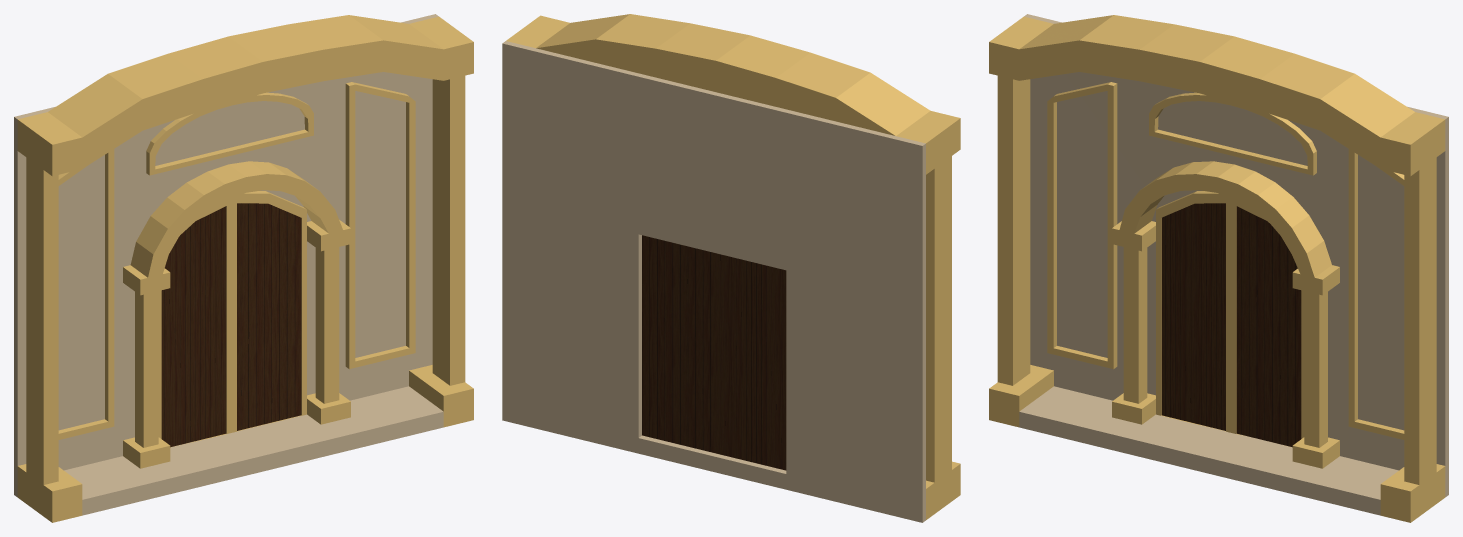
Rendered from Door with details.fbx.
3 views of the same model, side by side, from view 1: azimuth 30°, elevation 25°; view 2: azimuth 150°, elevation 25°; view 3: azimuth 330°, elevation 25° (orthographic).
Parts seen in each view (by area): view 1: Door.001; view 2: Door.001; view 3: Door.001.
Part boxes in pixels (box(x1,y1,x2,y2)): Door.001: box(14, 14, 473, 522); Door.001: box(502, 14, 960, 522); Door.001: box(989, 14, 1448, 522).
Bounding box in the file's own units: 1400 × 1300 × 220.
